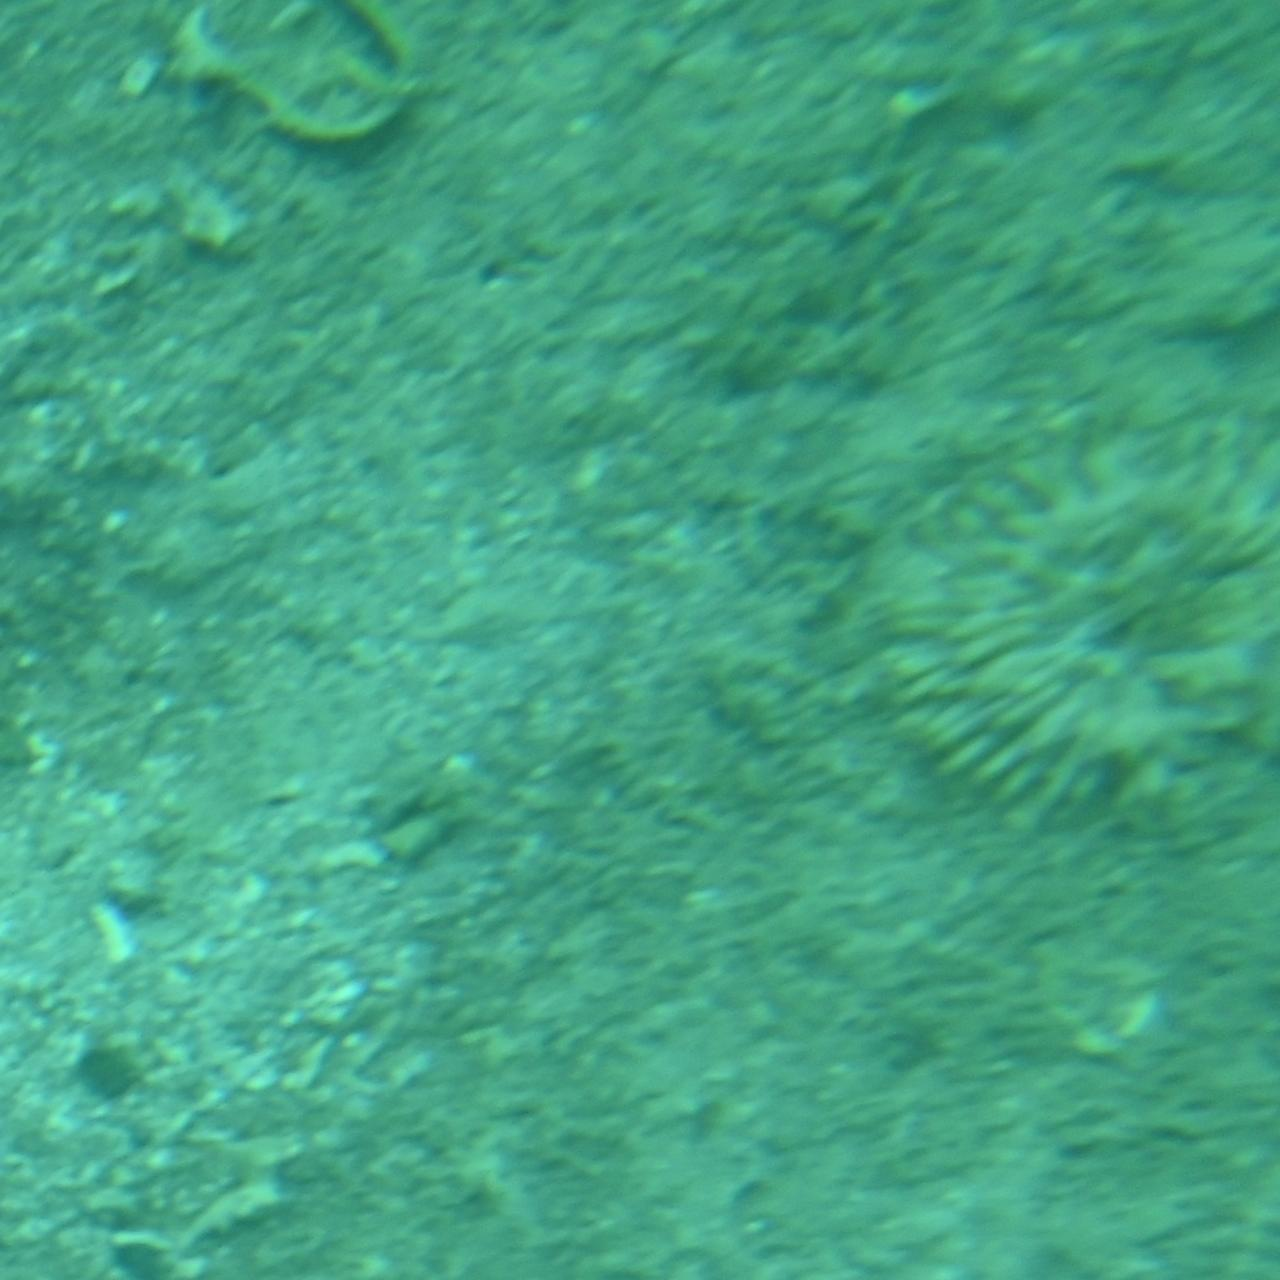Condylactis aurantiaca: (866, 413, 1278, 867)
